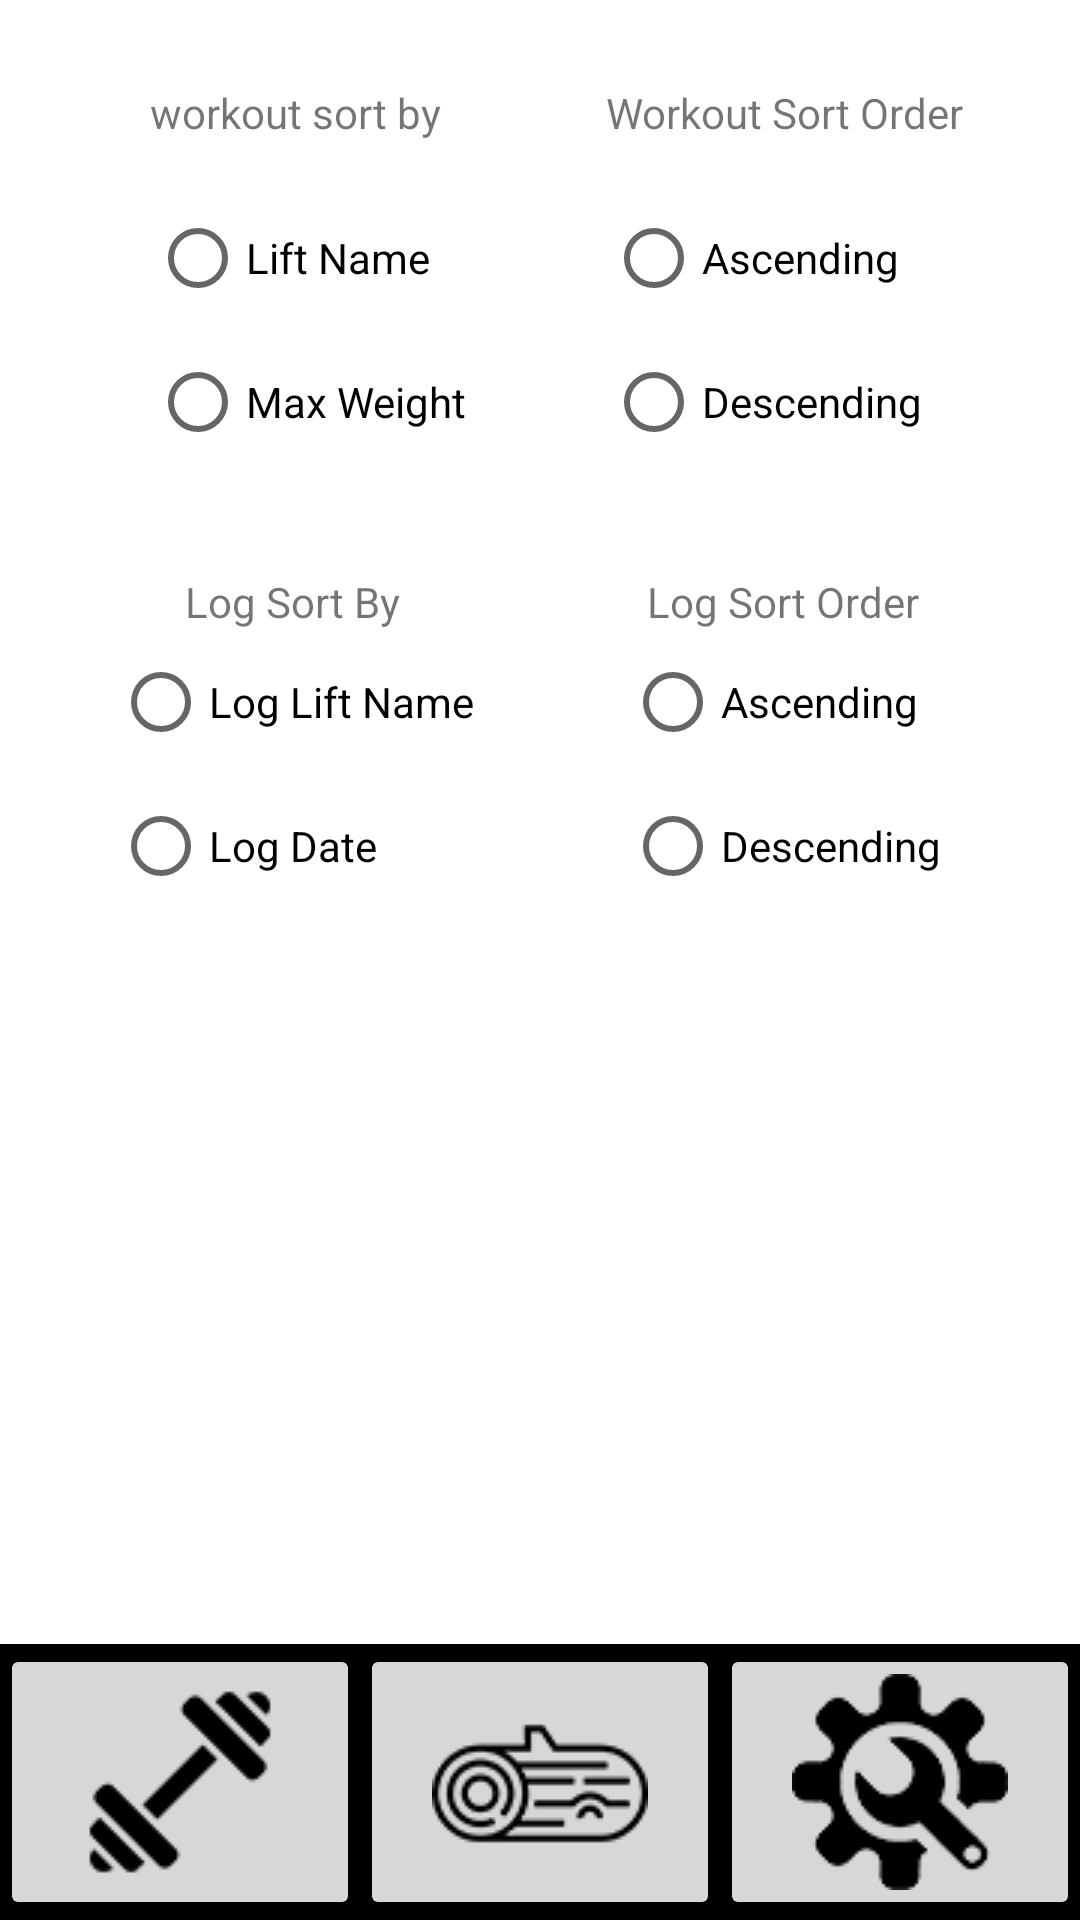

Point at icon controls on the screen. Image size 1080x1920, points as point (x, y).
picture of Log: point (540, 1782)
picture of weight: point (180, 1782)
Settings: point (900, 1782)
